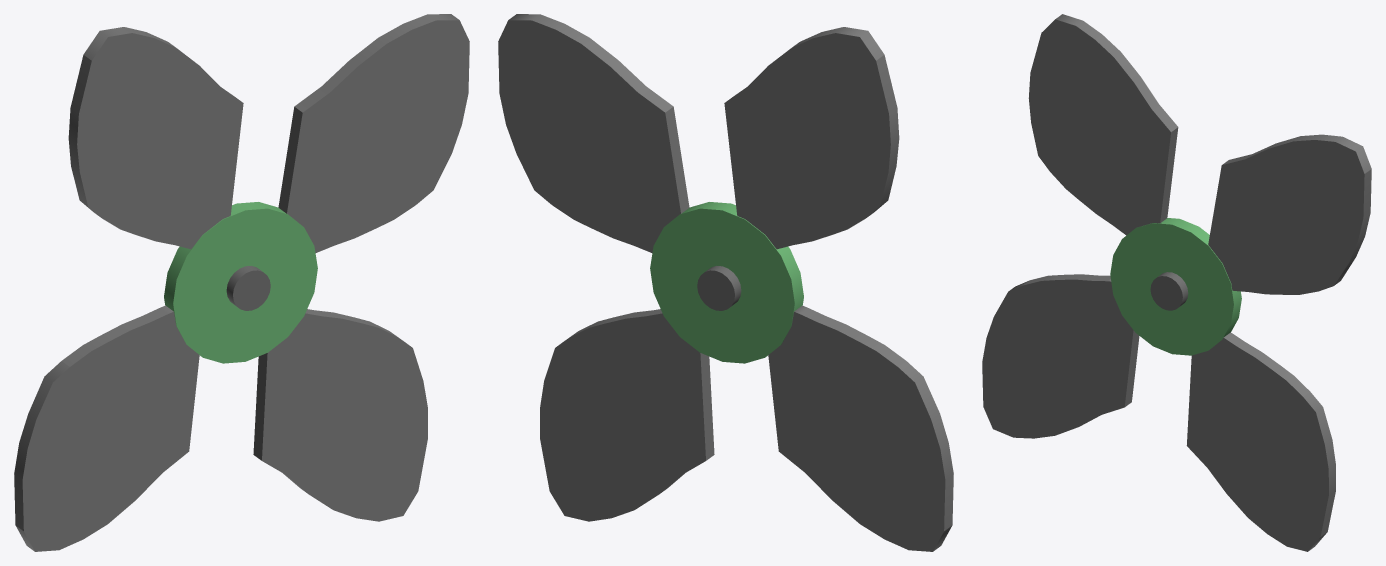
Rendered from Fan_Model.fbx.
3 renders of one model, left to right at view 1: azimuth 30°, elevation 25°; view 2: azimuth 150°, elevation 25°; view 3: azimuth 330°, elevation 25°, orthographic. The views are drawn at different scales.
Visible parts, largest first — view 1: pasted__pCube1 (×3), Fan, pCylinder1, pCylinder2; view 2: pasted__pCube1 (×3), Fan, pCylinder1, pCylinder2; view 3: pasted__pCube1 (×3), Fan, pCylinder1, pCylinder2.
Boxes of the visible parts, x1,y1,x2,y2 form: pasted__pCube1 (×3): (14, 27, 427, 551); Fan: (278, 14, 469, 252); pCylinder1: (164, 202, 317, 363); pCylinder2: (226, 266, 270, 310); pasted__pCube1 (×3): (540, 27, 953, 551); Fan: (498, 14, 689, 252); pCylinder1: (650, 202, 803, 363); pCylinder2: (697, 266, 741, 310); pasted__pCube1 (×3): (982, 14, 1335, 551); Fan: (1208, 134, 1371, 294); pCylinder1: (1110, 218, 1241, 355); pCylinder2: (1150, 272, 1188, 310).
Size of the model in its own units: 3.05 by 3.59 by 0.2588.
